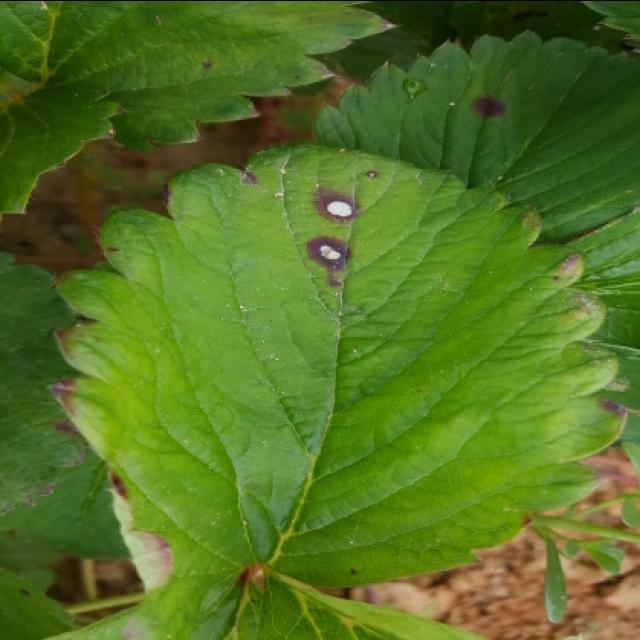Leaf Spot: (45, 142, 632, 586), (314, 27, 638, 242), (0, 2, 402, 151), (107, 460, 244, 640), (0, 558, 77, 640)
